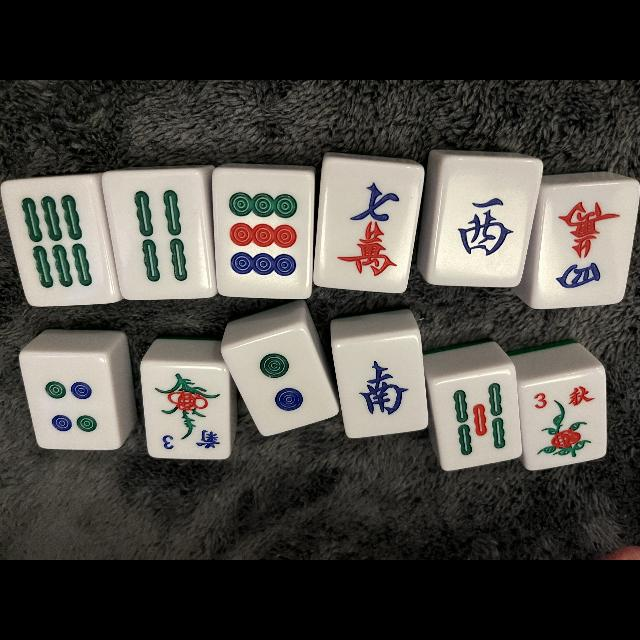b4: (113, 170, 207, 298)
b5: (438, 374, 516, 466)
b6: (14, 178, 104, 304)
c4: (542, 184, 628, 304)
c7: (322, 164, 408, 286)
d2: (243, 336, 323, 429)
d4: (29, 356, 112, 448)
d9: (215, 172, 311, 296)
f3: (146, 422, 230, 456)
s3: (524, 378, 602, 412)
ws: (339, 338, 423, 432)
ww: (439, 158, 525, 284)
